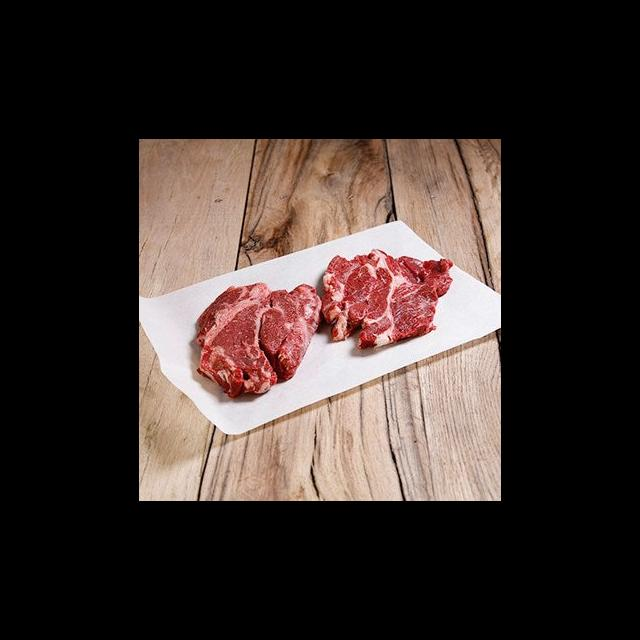beef: (194, 281, 320, 406), (317, 246, 455, 358)
